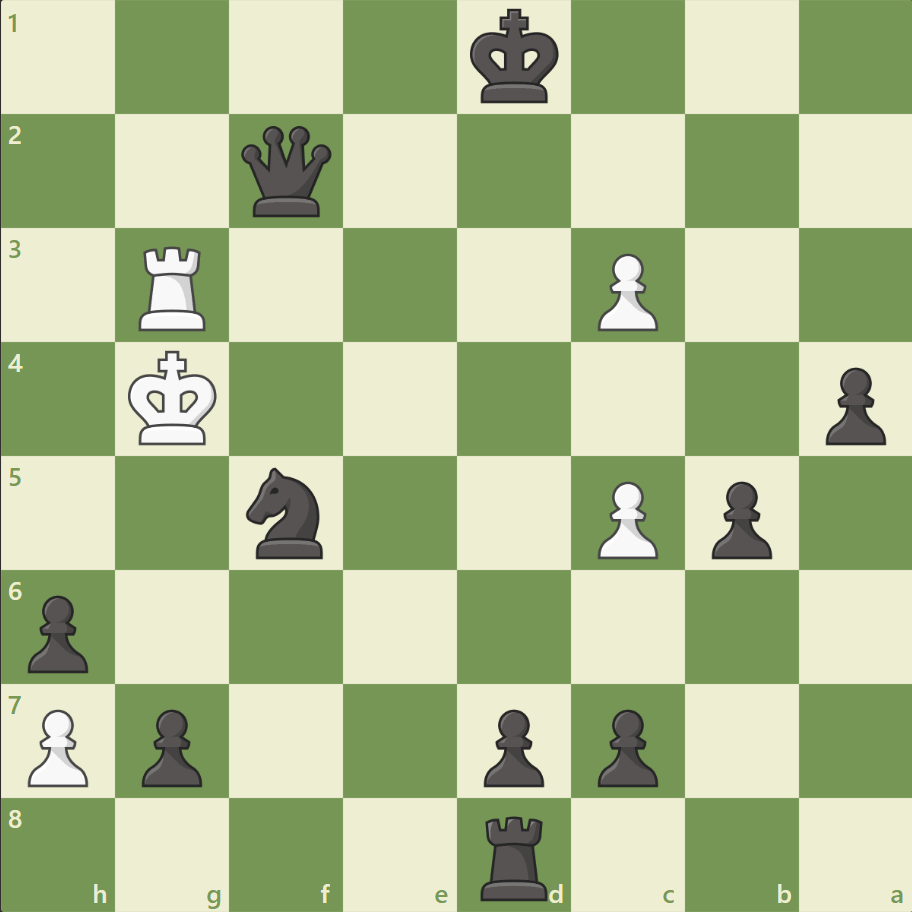K: (124, 344, 224, 452)
P: (20, 700, 95, 791), (588, 473, 662, 564), (588, 246, 662, 337)
R: (133, 239, 215, 336)
k: (465, 4, 565, 112)
n: (238, 461, 335, 564)
p: (474, 700, 549, 791), (133, 700, 208, 791), (20, 586, 95, 677), (701, 473, 776, 564), (588, 700, 662, 791), (815, 359, 889, 450)
q: (237, 122, 336, 222)
r: (473, 806, 556, 904)
